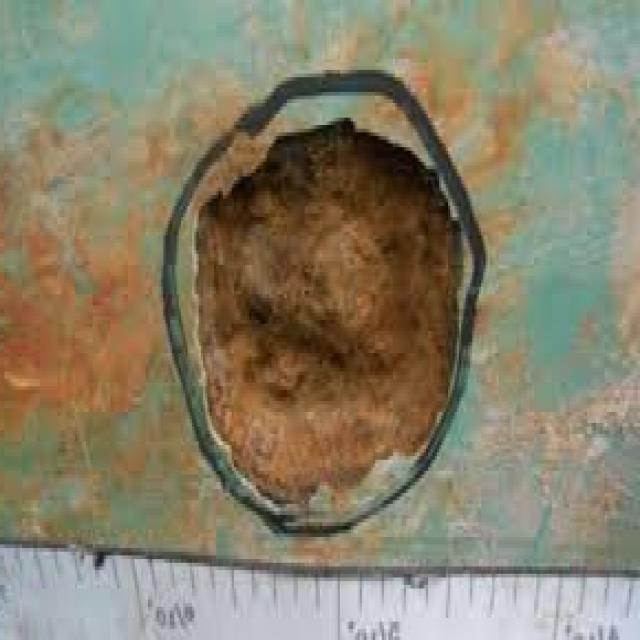Corrosion: (198, 120, 458, 504)
